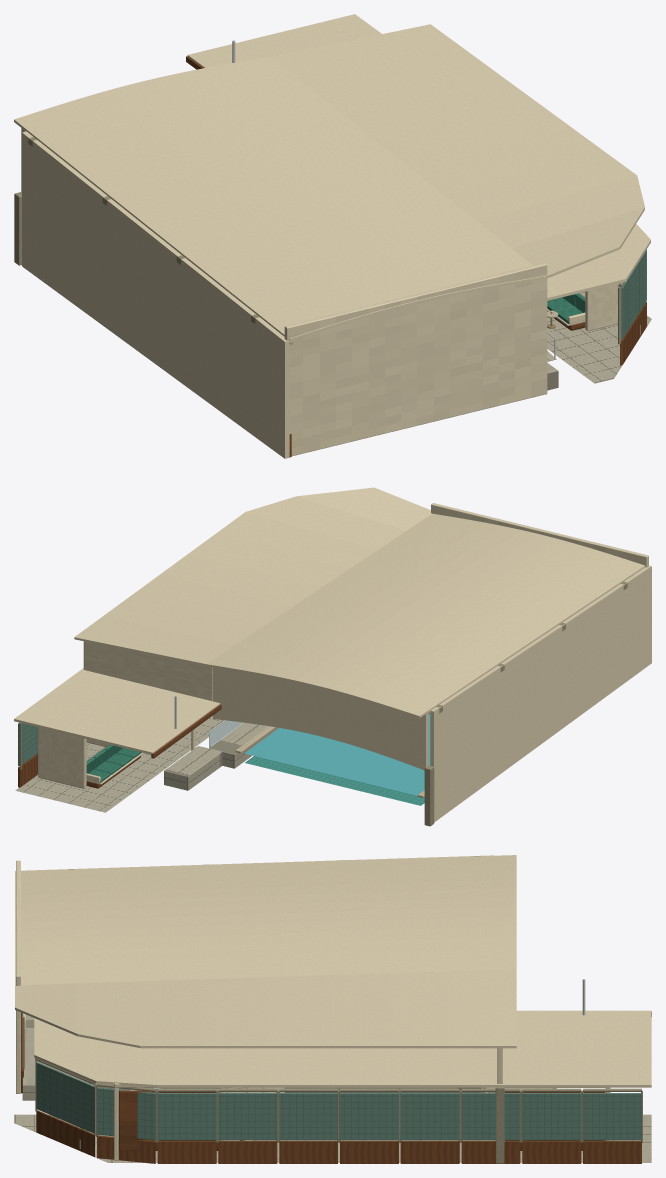
The model's file is Group6TidalNorthRoom_r006.glb.
The picture shows the model from 3 angles, top to bottom: view 1: azimuth 30°, elevation 25°; view 2: azimuth 150°, elevation 25°; view 3: azimuth 270°, elevation 25°; orthographic projection. The views are drawn at different scales.
Parts seen in each view (by area): view 1: G6_TIDAL__north_room_return, G6_TIDAL__vault_infill_0, G6_TIDAL__vault_infill_4, G6_TIDAL__vault_infill_5, G6_TIDAL__vault_infill_1, G6_TIDAL__vault_infill_2, G6_TIDAL__vault_infill_3, G6_TIDAL__vault_infill_6, G6_TIDAL__west_room_return_0, G6_TIDAL__west_room_return_1, G6_TIDAL__west_room_return_3, G6_TIDAL__west_room_return_2 (+15 smaller); view 2: G6_TIDAL__threshold_arch_spandrel, G6_TIDAL__west_room_return_0, G6_TIDAL__vault_infill_0, G6_TIDAL__west_room_return_1, G6_TIDAL__west_room_return_2, G6_TIDAL__vault_infill_4, G6_TIDAL__vault_infill_3, G6_TIDAL__vault_infill_1, G6_TIDAL__vault_infill_2, G6_TIDAL__vault_infill_5, G6_TIDAL__vault_infill_6, G6_TIDAL__water_face (+22 smaller); view 3: G6_TIDAL__vault_infill_3, G6_TIDAL__vault_infill_6, G6_TIDAL__vault_infill_5, G6_TIDAL__vault_infill_1, G6_TIDAL__vault_infill_0, G6_TIDAL__vault_infill_2, G6_TIDAL__vault_infill_4, G6_TIDAL__vault_infill_7, G6_TIDAL__east_roof_infill_0, G6_TIDAL__east_roof_infill_1, G6_TIDAL__recovery_cove_0, G6_TIDAL__recovery_cove_1 (+40 smaller).
Boxes of the visible parts, box(x1,y1,x2,y2) form: G6_TIDAL__north_room_return: box(284, 263, 547, 456); G6_TIDAL__vault_infill_0: box(14, 57, 304, 148); G6_TIDAL__vault_infill_4: box(151, 166, 442, 257); G6_TIDAL__vault_infill_5: box(186, 194, 476, 285); G6_TIDAL__vault_infill_1: box(48, 84, 339, 175); G6_TIDAL__vault_infill_2: box(83, 111, 373, 203); G6_TIDAL__vault_infill_3: box(117, 139, 408, 230); G6_TIDAL__vault_infill_6: box(220, 221, 511, 312); G6_TIDAL__west_room_return_0: box(22, 131, 91, 313); G6_TIDAL__west_room_return_1: box(87, 184, 157, 362); G6_TIDAL__west_room_return_3: box(219, 288, 289, 458); G6_TIDAL__west_room_return_2: box(153, 236, 223, 410); G6_TIDAL__threshold_arch_spandrel: box(213, 667, 428, 770); G6_TIDAL__west_room_return_0: box(430, 674, 488, 822); G6_TIDAL__vault_infill_0: box(206, 645, 448, 718); G6_TIDAL__west_room_return_1: box(485, 638, 542, 782); G6_TIDAL__west_room_return_2: box(540, 601, 597, 742); G6_TIDAL__vault_infill_4: box(321, 569, 562, 641); G6_TIDAL__vault_infill_3: box(293, 588, 533, 660); G6_TIDAL__vault_infill_1: box(235, 626, 476, 698); G6_TIDAL__vault_infill_2: box(264, 607, 505, 679); G6_TIDAL__vault_infill_5: box(350, 550, 590, 621); G6_TIDAL__vault_infill_6: box(378, 531, 619, 602); G6_TIDAL__water_face: box(244, 714, 430, 795); G6_TIDAL__vault_infill_3: box(265, 861, 328, 977); G6_TIDAL__vault_infill_6: box(77, 867, 140, 983); G6_TIDAL__vault_infill_5: box(140, 865, 202, 981); G6_TIDAL__vault_infill_1: box(391, 857, 453, 973); G6_TIDAL__vault_infill_0: box(454, 855, 516, 971); G6_TIDAL__vault_infill_2: box(328, 859, 390, 975); G6_TIDAL__vault_infill_4: box(203, 863, 265, 979); G6_TIDAL__vault_infill_7: box(15, 869, 77, 985); G6_TIDAL__east_roof_infill_0: box(454, 969, 516, 1048); G6_TIDAL__east_roof_infill_1: box(391, 971, 453, 1048); G6_TIDAL__recovery_cove_0: box(590, 1010, 651, 1087); G6_TIDAL__recovery_cove_1: box(528, 1010, 589, 1087).
Bounding box in the file's own units: 23.05 × 7.46 × 33.07.
15 materials, 8 textured.
